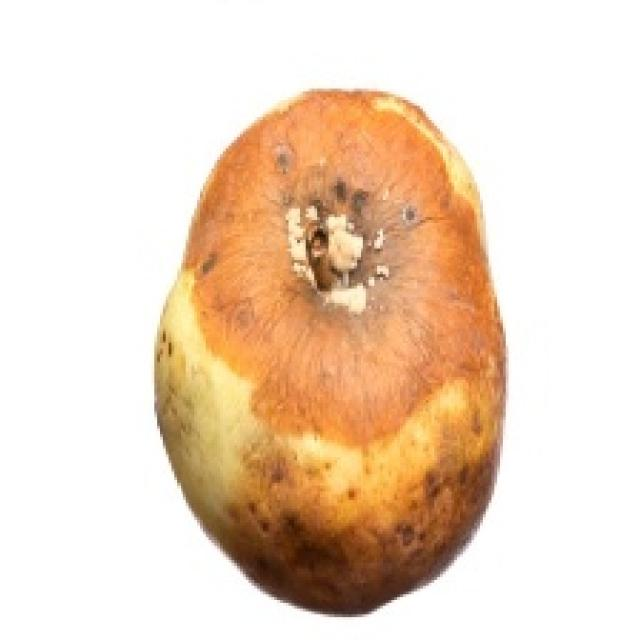rotten_apple: (162, 92, 499, 612)
